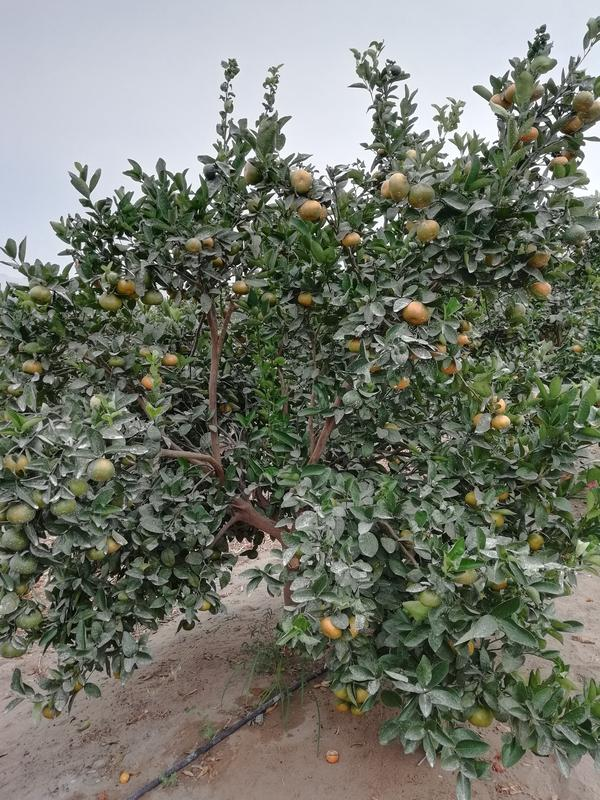mandarina naranja: (389, 171, 411, 202), (401, 300, 429, 324), (320, 615, 345, 639), (418, 217, 439, 240), (292, 170, 313, 192), (575, 90, 594, 114), (531, 277, 551, 298), (301, 199, 319, 220), (489, 415, 511, 431), (21, 358, 43, 374), (342, 230, 362, 247), (522, 126, 537, 142), (141, 373, 154, 388), (162, 354, 178, 365)
mandarina verde: (1, 526, 26, 553), (10, 552, 40, 574), (407, 184, 435, 207), (6, 504, 36, 525), (16, 606, 42, 629), (89, 457, 114, 480), (48, 496, 75, 516), (563, 223, 587, 245), (468, 706, 492, 727), (244, 161, 264, 186), (419, 588, 440, 608), (29, 285, 51, 304), (142, 287, 164, 305), (99, 293, 123, 309), (529, 532, 546, 549), (233, 280, 251, 295), (187, 236, 202, 254)
